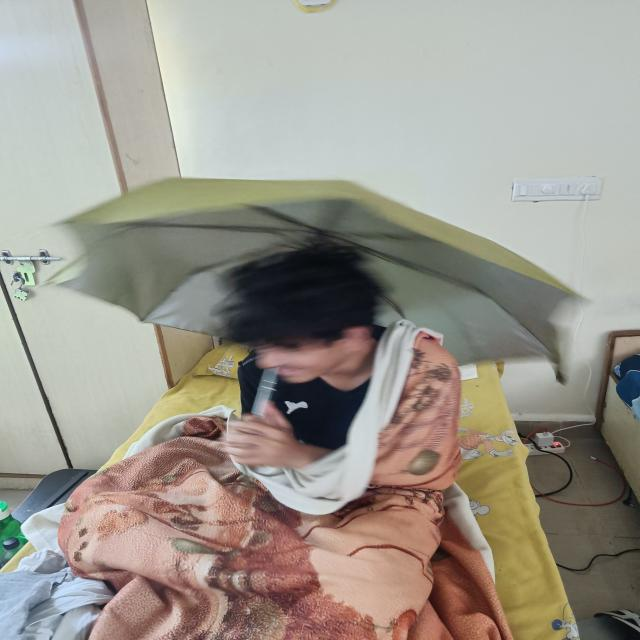umbrella: (47, 178, 588, 382)
